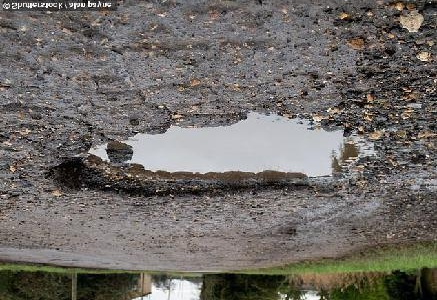pothole: (46, 106, 396, 201)
